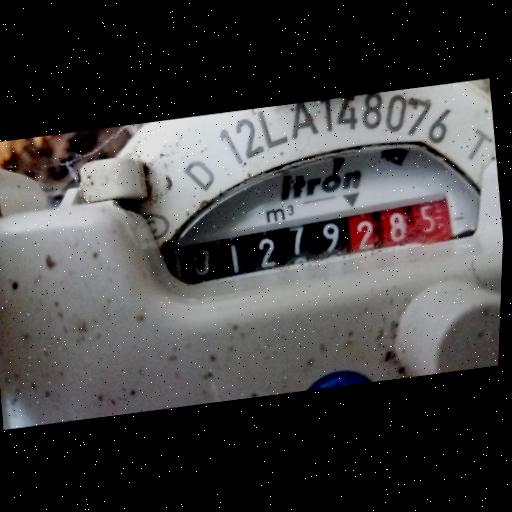0: (175, 240, 222, 287)
1: (213, 234, 254, 279)
2: (244, 226, 288, 273), (344, 211, 386, 254)
5: (407, 197, 455, 247)
7: (278, 222, 320, 267)
8: (378, 205, 417, 248)
9: (311, 217, 351, 261)
border_water_meter_number: (174, 193, 456, 288)
